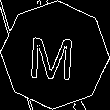M_N: (31, 28, 79, 82)
